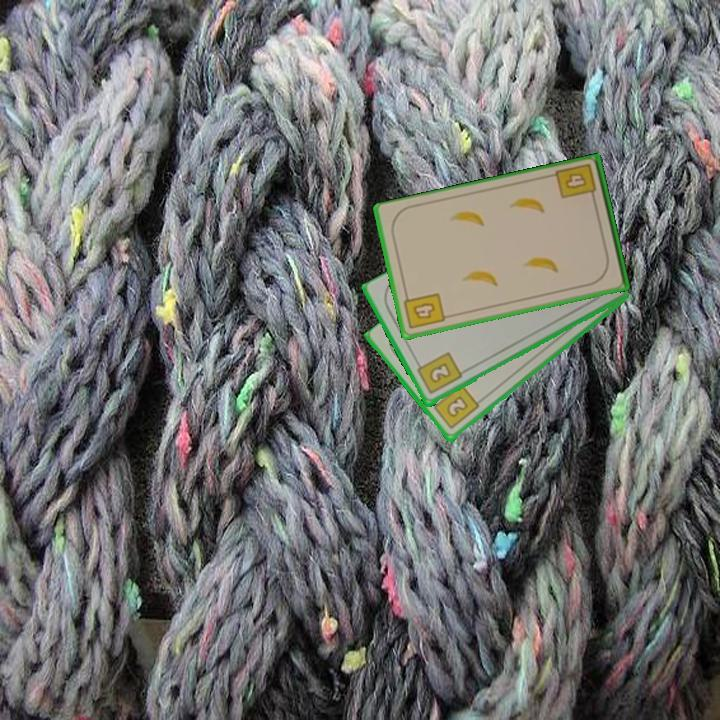2b: (428, 381, 482, 432), (412, 349, 465, 397)
4b: (553, 160, 599, 205), (400, 290, 448, 332)
